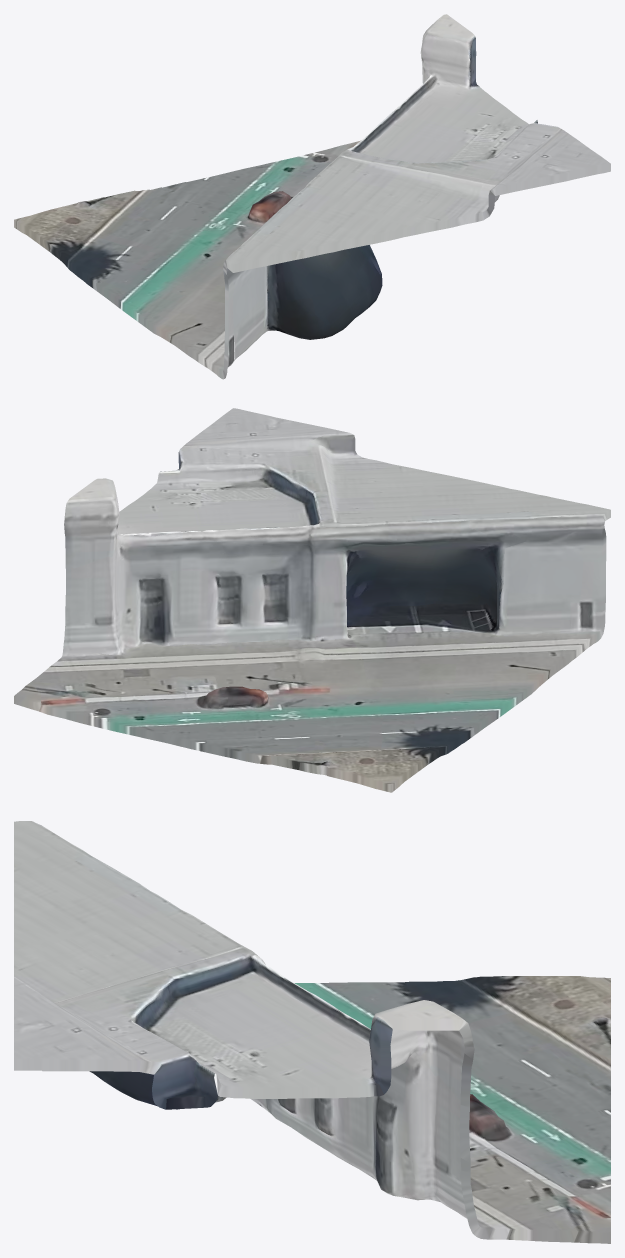
The model's file is z20-167770-405193-h0-yup-uvflip-v3-world.glb.
3 renders of one model, top to bottom at view 1: azimuth 30°, elevation 25°; view 2: azimuth 150°, elevation 25°; view 3: azimuth 270°, elevation 25°, orthographic. The views are drawn at different scales.
Size of the model in its own units: 30.16 by 12.8 by 30.32.
Materials: 1 (1 with a texture image).
